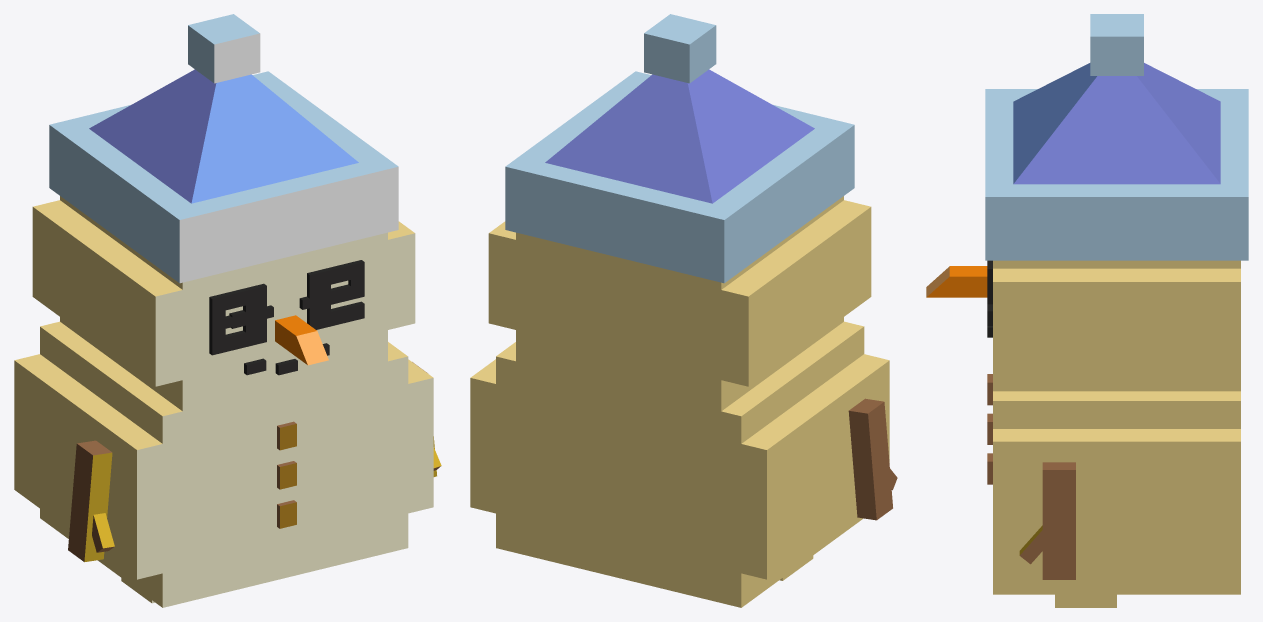
The picture shows the model from 3 angles, left to right: view 1: azimuth 30°, elevation 25°; view 2: azimuth 150°, elevation 25°; view 3: azimuth 270°, elevation 25°; orthographic projection.
Parts seen in each view (by area): view 1: Ch_174_Head, Ch_174, Ch_174_Hand_L, Ch_174_Eye_03_L, Ch_174_Eye_03_R, Ch_174_Eye_02; view 2: Ch_174_Head, Ch_174, Ch_174_Hand_L; view 3: Ch_174_Head, Ch_174, Ch_174_Hand_R, Ch_174_Leg_R.
Part boxes in pixels (bbox=[...]): Ch_174_Head: bbox=[32, 14, 415, 411]; Ch_174: bbox=[14, 321, 433, 607]; Ch_174_Hand_L: bbox=[68, 440, 114, 562]; Ch_174_Eye_03_L: bbox=[209, 283, 266, 355]; Ch_174_Eye_03_R: bbox=[307, 260, 364, 329]; Ch_174_Eye_02: bbox=[225, 287, 355, 328]; Ch_174_Head: bbox=[488, 14, 871, 411]; Ch_174: bbox=[470, 321, 889, 607]; Ch_174_Hand_L: bbox=[848, 398, 897, 520]; Ch_174_Head: bbox=[926, 14, 1248, 391]; Ch_174: bbox=[987, 374, 1240, 594]; Ch_174_Hand_R: bbox=[1019, 462, 1075, 579]; Ch_174_Leg_R: bbox=[1055, 594, 1116, 607].
Size of the model in its own units: 7.21 by 10.28 by 5.65.
